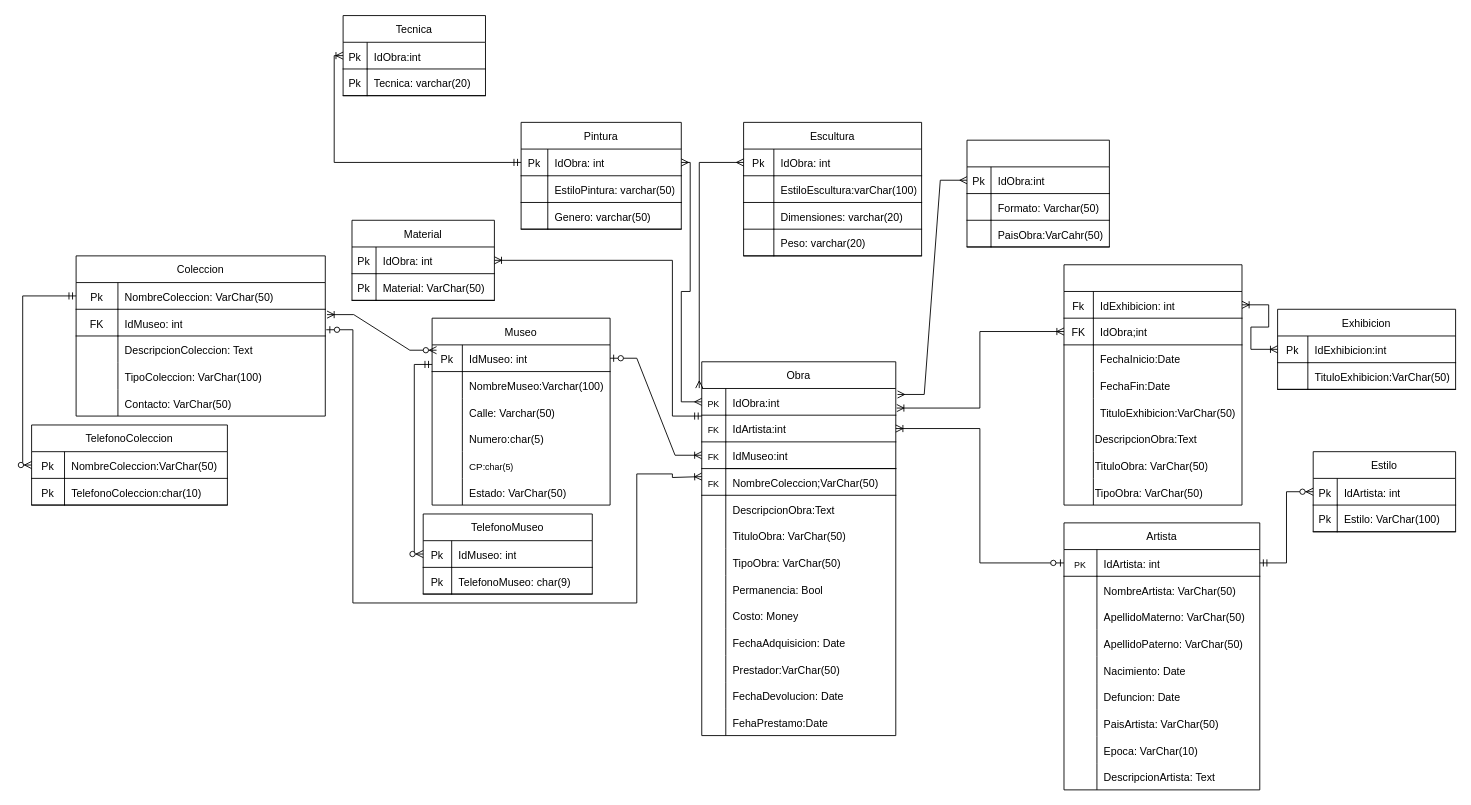
Some shapes in this 1471 by 805 pixel diagram are drawn without their labels. Each missing label, with the box of its shape:
Exhibir: (1063, 264, 1242, 505)
Miscelanea: (966, 139, 1109, 247)
